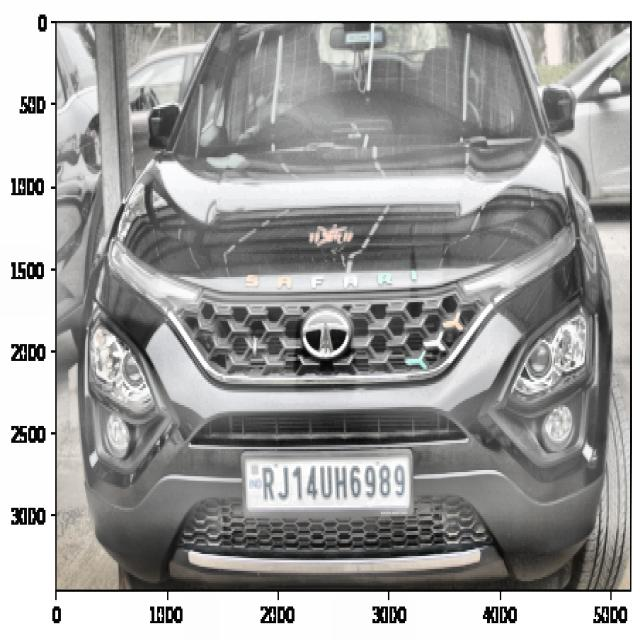license_plate: (254, 454, 411, 514)
